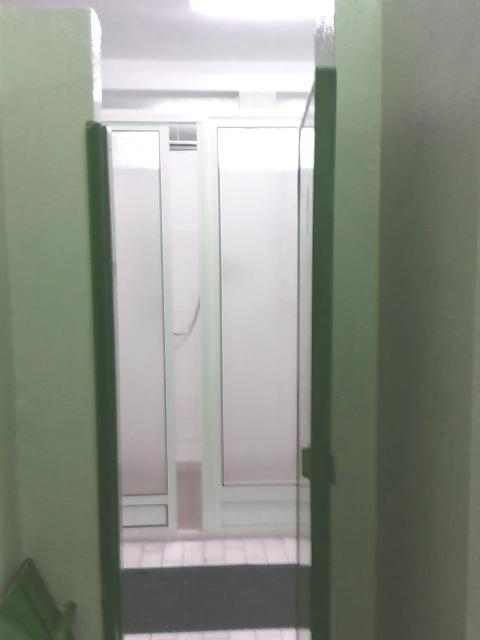open_door: (90, 66, 335, 639)
